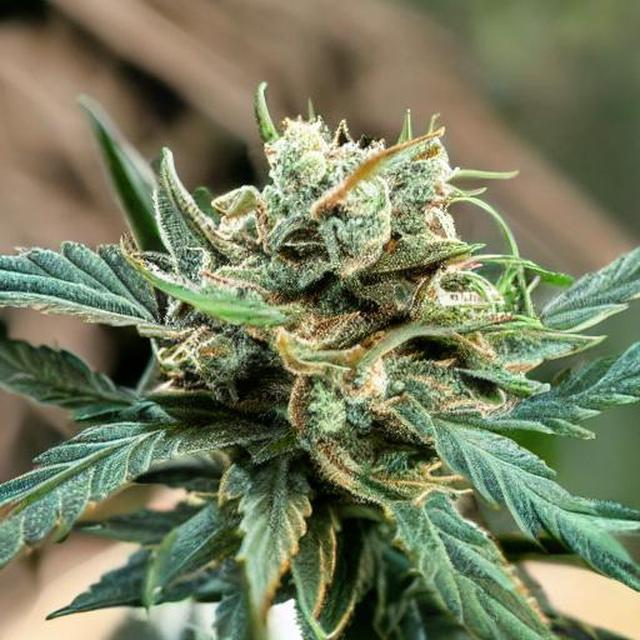Marijuana Plant: (0, 0, 639, 599)
